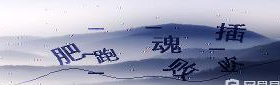chinese: (49, 40, 85, 70), (217, 17, 247, 43), (165, 57, 195, 81), (153, 35, 183, 57), (93, 48, 122, 70), (220, 56, 244, 74)
